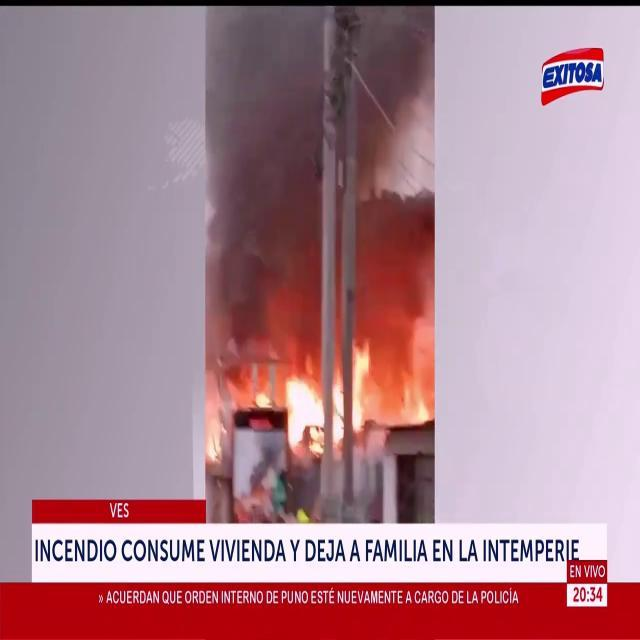Fire: (276, 330, 374, 456)
Smoke: (204, 5, 326, 382), (346, 5, 434, 199)
